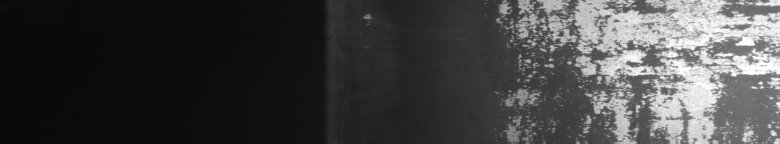kb: (495, 4, 776, 136)
